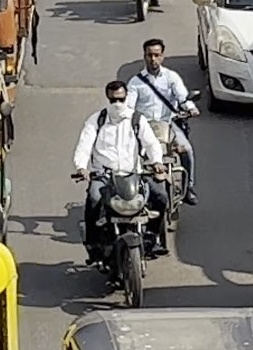BikeWithRider: (64, 33, 207, 312)
NoHelmet: (137, 35, 171, 74), (99, 77, 133, 115)
